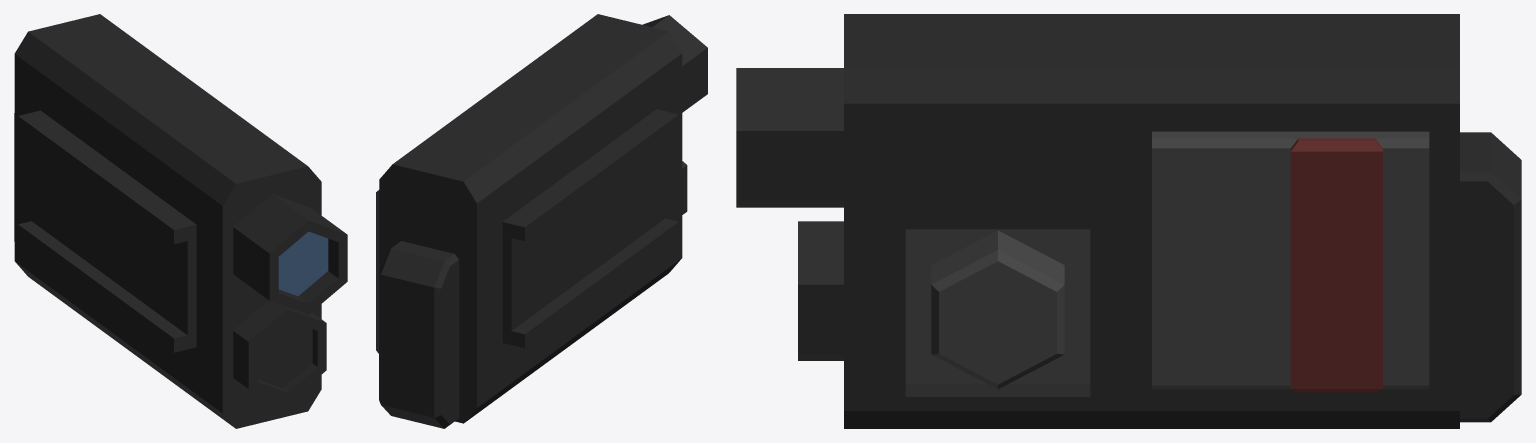
The model's file is Laser_A_Left.fbx.
3 views of the same model, side by side, from view 1: azimuth 30°, elevation 25°; view 2: azimuth 150°, elevation 25°; view 3: azimuth 270°, elevation 25° (orthographic). The views are drawn at different scales.
Visible parts, largest first — view 1: Laser_A_Left; view 2: Laser_A_Left; view 3: Laser_A_Left.
Part boxes in pixels (box(x1,y1,x2,y2)): Laser_A_Left: box(14, 14, 347, 428); Laser_A_Left: box(376, 14, 707, 428); Laser_A_Left: box(736, 14, 1521, 428).
Size of the model in its own units: 0.0387 by 0.065 by 0.1275.
